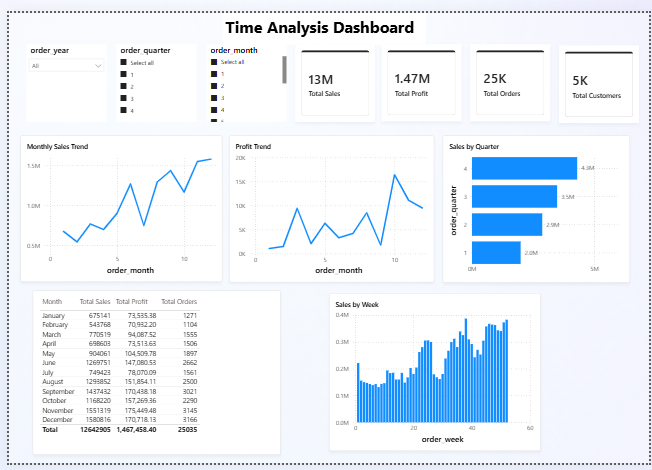

What the dashboard file says about the page in this screenshot:
{"tool":"powerbi","page":{"name":"Executive","canvas":[1280,900],"ordinal":4},"visuals":[{"type":"textbox","box":[427.8,0,406.7,63.3],"z":0},{"type":"slicer","fields":{"Values":["superstore_cleaned_complete.order_year"]},"box":[34.2,63.6,160.2,155.3],"z":1000},{"type":"slicer","fields":{"Values":["superstore_cleaned_complete.order_quarter"]},"box":[215.2,63.6,160.2,155.3],"z":2000},{"type":"slicer","fields":{"Values":["superstore_cleaned_complete.order_month"]},"box":[393.8,63.6,160.2,155.3],"z":3000},{"type":"cardVisual","fields":{"Data":["superstore_cleaned_complete.Total Sales"]},"box":[572.3,63.6,160.2,155.3],"z":4000},{"type":"cardVisual","fields":{"Data":["superstore_cleaned_complete.Total Orders"]},"box":[923.2,63.6,160.2,154.1],"z":5000},{"type":"cardVisual","fields":{"Data":["superstore_cleaned_complete.Total Profit"]},"box":[744.7,63.6,160.2,154.1],"z":6000},{"type":"cardVisual","fields":{"Data":["superstore_cleaned_complete.Total Customers"]},"box":[1100.5,64.8,160.2,155.3],"z":7000},{"type":"lineChart","title":"Monthly Sales Trend","fields":{"Category":["superstore_cleaned_complete.order_month"],"Y":["superstore_cleaned_complete.Total Sales"]},"box":[22.9,245.7,404.3,292.9],"z":8000},{"type":"lineChart","title":"Profit Trend","fields":{"Category":["superstore_cleaned_complete.order_month"],"Y":["superstore_cleaned_complete.Total Profit"]},"box":[441.1,245.6,410,293.3],"z":9000},{"type":"clusteredBarChart","title":"Sales by Quarter","fields":{"Y":["superstore_cleaned_complete.Total Sales"],"Category":["superstore_cleaned_complete.order_quarter"]},"box":[867.1,244.3,374.3,294.3],"z":10000},{"type":"tableEx","title":"Top 5 Customers","fields":{"Values":["superstore_cleaned_complete.order_date.Variation.Date Hierarchy.Month","superstore_cleaned_complete.Total Sales","superstore_cleaned_complete.Total Profit","superstore_cleaned_complete.Total Orders"]},"box":[48.6,554.3,495.7,328.6],"z":11000},{"type":"lineStackedColumnComboChart","title":"Sales by Week","fields":{"Y":["superstore_cleaned_complete.Total Sales"],"Category":["superstore_cleaned_complete.order_week"]},"box":[640,560,422.9,315.7],"z":12000}]}

Visuals, with their boxes in screenshot pixels (x1, y1, x2, y2), scaled from the page's 1280x900 canvas onto the 652x470 screenshot:
textbox: <region>218, 0, 425, 33</region>
slicer - superstore_cleaned_complete.order_year: <region>17, 33, 99, 114</region>
slicer - superstore_cleaned_complete.order_quarter: <region>110, 33, 191, 114</region>
slicer - superstore_cleaned_complete.order_month: <region>201, 33, 282, 114</region>
cardVisual - superstore_cleaned_complete.Total Sales: <region>292, 33, 373, 114</region>
cardVisual - superstore_cleaned_complete.Total Orders: <region>470, 33, 552, 114</region>
cardVisual - superstore_cleaned_complete.Total Profit: <region>379, 33, 461, 114</region>
cardVisual - superstore_cleaned_complete.Total Customers: <region>561, 34, 642, 115</region>
"Monthly Sales Trend" lineChart: <region>12, 128, 218, 281</region>
"Profit Trend" lineChart: <region>225, 128, 434, 281</region>
"Sales by Quarter" clusteredBarChart: <region>442, 128, 632, 281</region>
"Top 5 Customers" tableEx: <region>25, 289, 277, 461</region>
"Sales by Week" lineStackedColumnComboChart: <region>326, 292, 541, 457</region>
